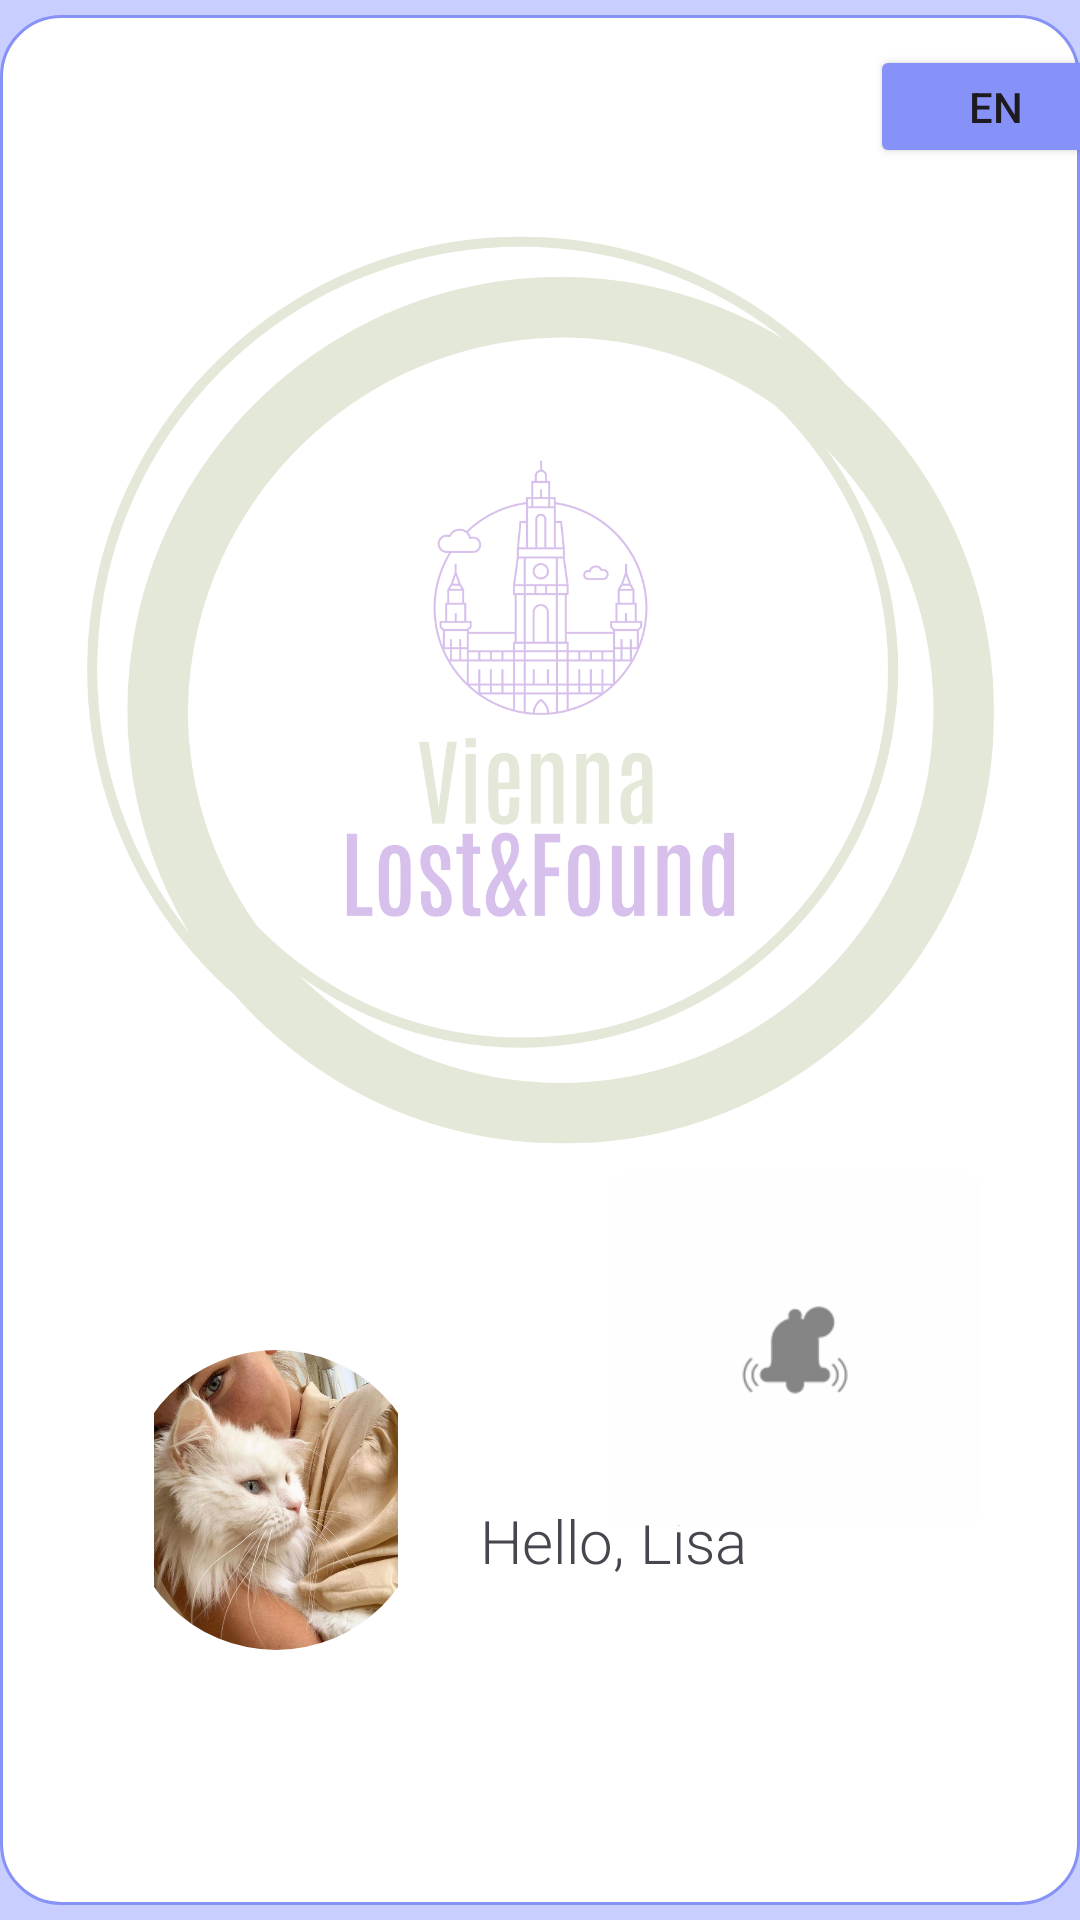

Icon bounding boxes for this 1080 x 1920 phone screenshot, format {"left": x1, "top": y1, "right": x2, "bottom": y2}:
profile girl with cat: {"left": 154, "top": 1350, "right": 398, "bottom": 1650}
